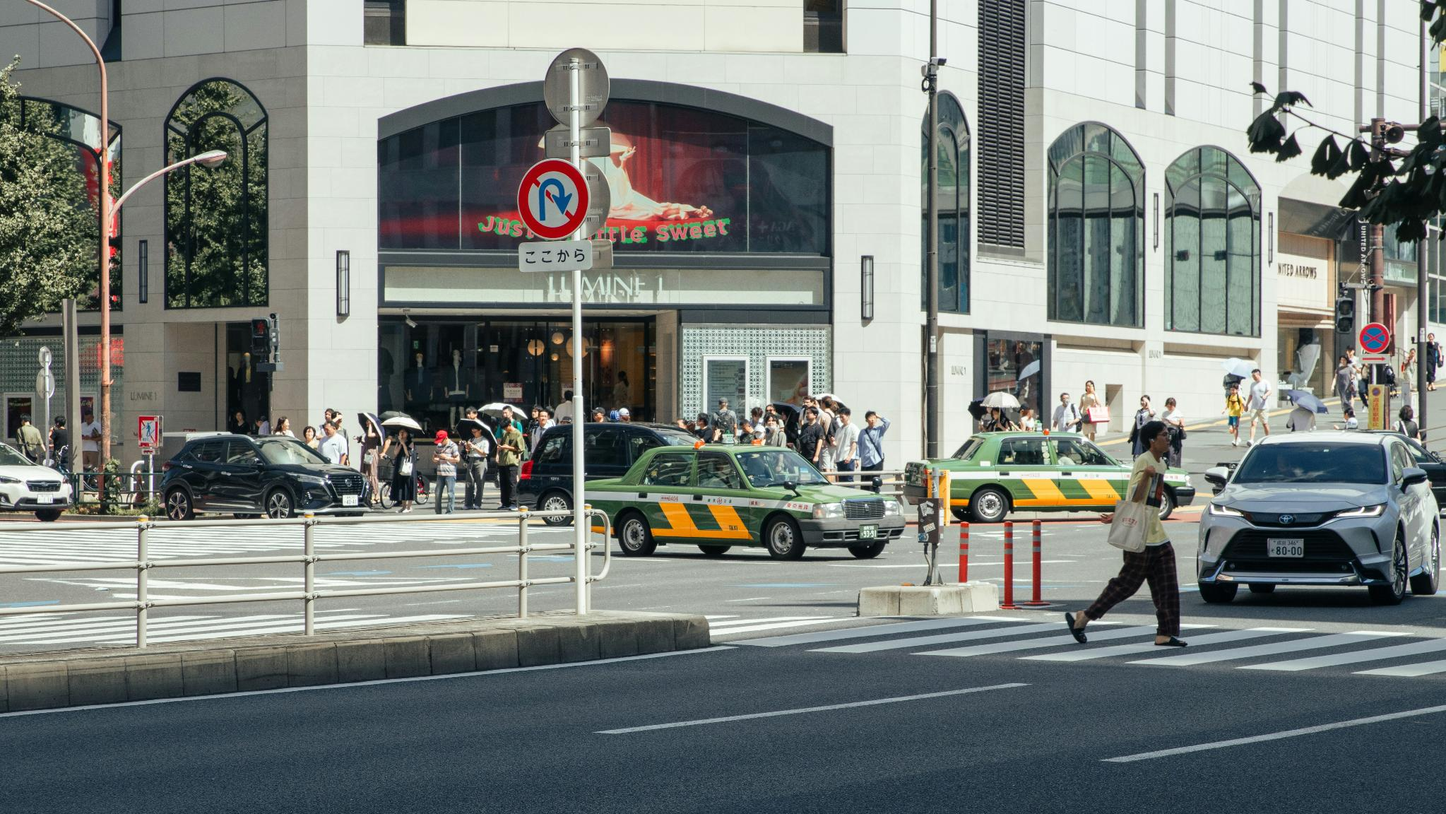car: (1193, 434, 1444, 610), (577, 451, 902, 567), (911, 429, 1132, 521), (161, 430, 373, 518), (531, 424, 710, 512), (0, 464, 73, 521)
pedestrian: (1073, 421, 1188, 647), (378, 414, 432, 514), (429, 428, 461, 513), (463, 421, 491, 512), (498, 422, 523, 511), (1247, 371, 1276, 442), (858, 413, 891, 473), (988, 384, 1025, 432), (1284, 388, 1322, 432), (836, 409, 858, 470), (1082, 396, 1111, 442), (1223, 384, 1243, 447), (320, 424, 348, 460), (716, 401, 739, 440), (763, 413, 789, 442), (537, 413, 549, 431)
